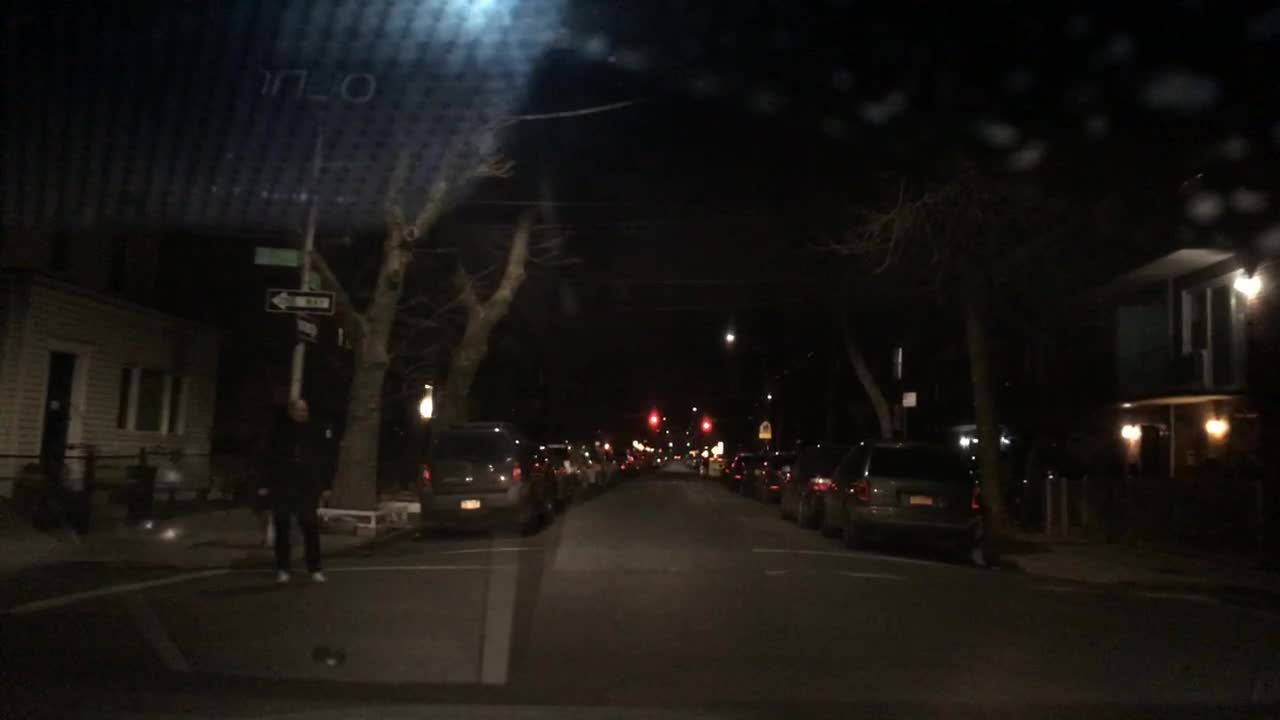car: (820, 435, 984, 554), (416, 421, 550, 538), (775, 443, 857, 523), (734, 446, 804, 502), (536, 440, 568, 511), (551, 438, 588, 497), (578, 449, 603, 488), (725, 451, 753, 483), (702, 456, 724, 478), (599, 453, 615, 482), (618, 452, 639, 474), (686, 453, 704, 466), (697, 455, 706, 476), (645, 453, 658, 466)
person: (256, 397, 332, 585)
traffic light: (646, 413, 657, 427), (702, 418, 707, 434)
traffic sign: (261, 286, 334, 314), (254, 246, 301, 265), (296, 315, 320, 345), (899, 390, 924, 408), (303, 270, 328, 283), (759, 420, 773, 443)
